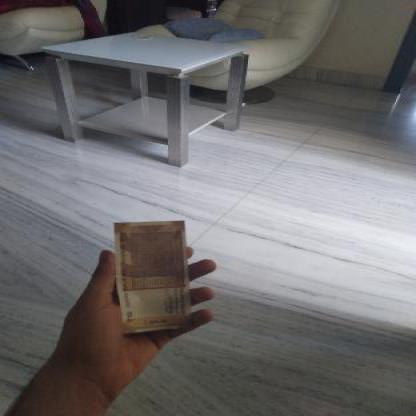New10Back: (116, 223, 188, 333)
